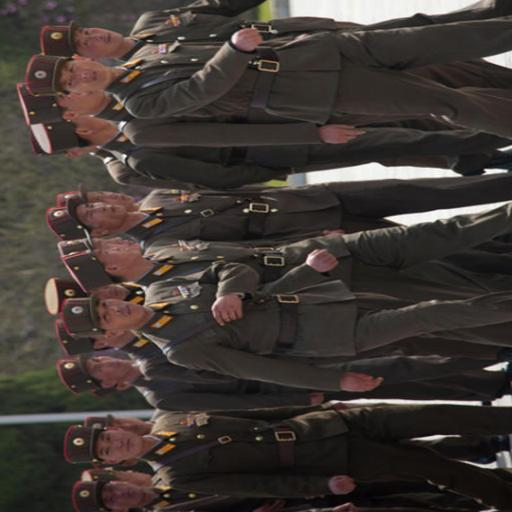north army: (49, 22, 512, 184), (54, 216, 512, 360), (86, 399, 512, 512)
